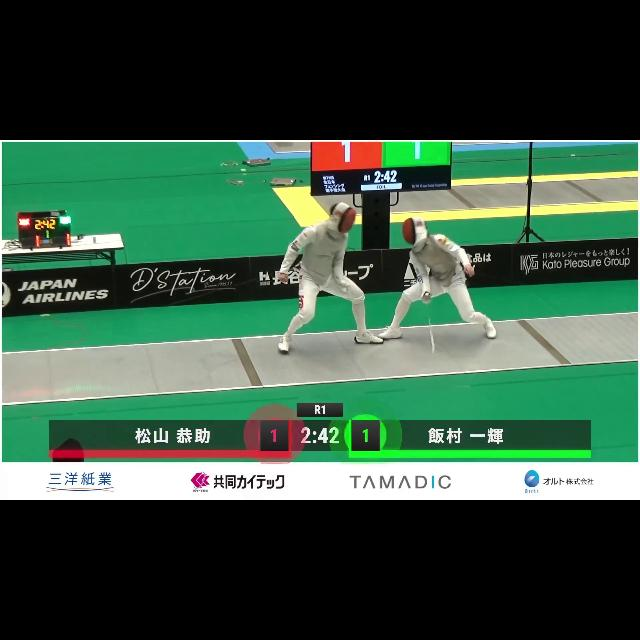blade: (336, 280, 400, 340), (419, 288, 445, 358)
